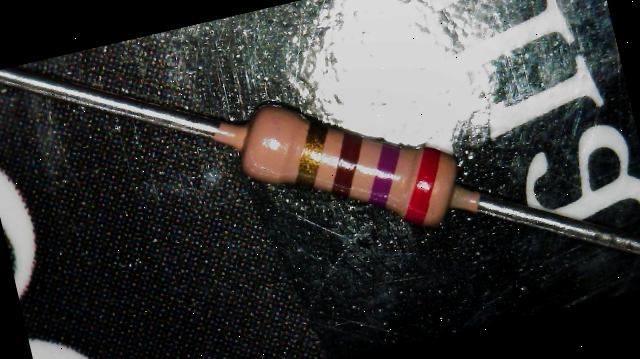brown: (318, 129, 374, 201)
gold: (286, 121, 341, 189)
red: (390, 145, 456, 228)
resistor: (207, 79, 486, 256)
violet: (358, 142, 411, 209)
